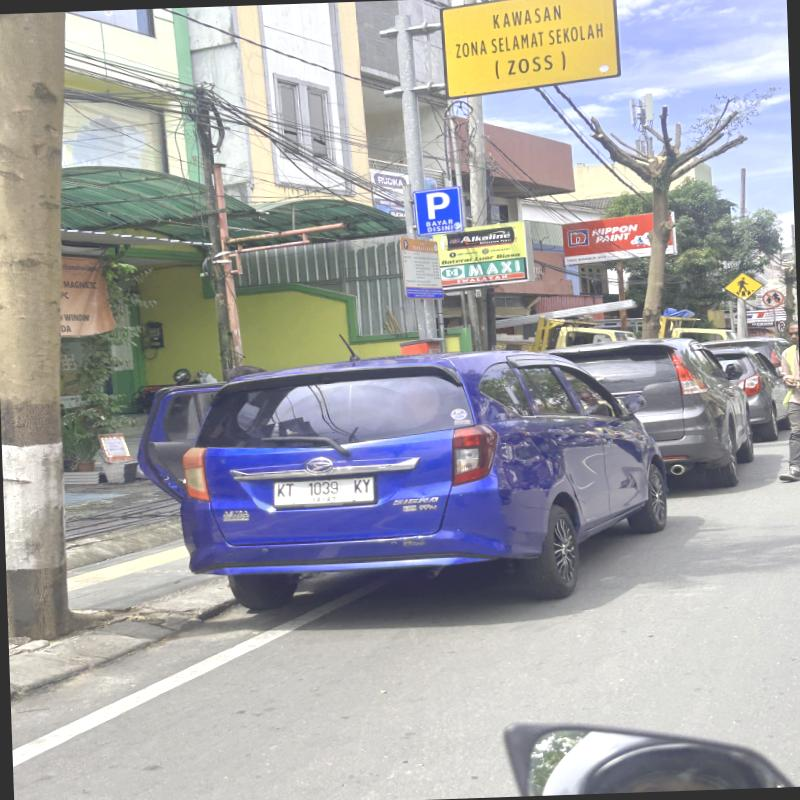license plate on a car: (273, 475, 377, 507)
